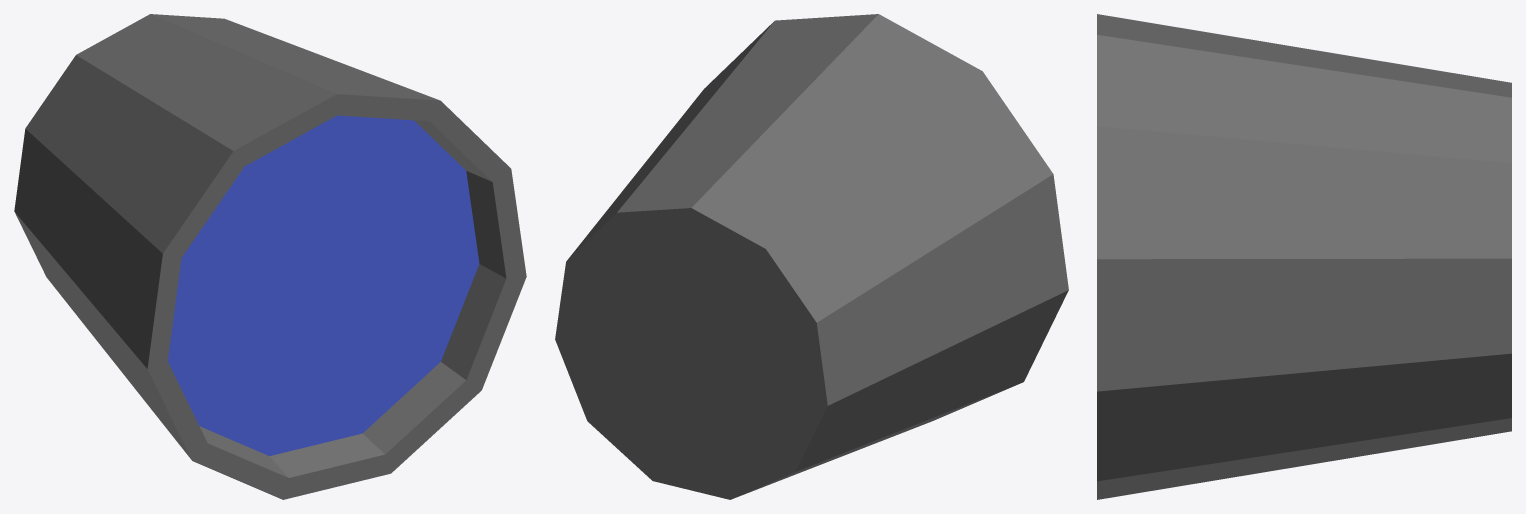
The model's file is Bucket.glb.
3 views of the same model, side by side, from view 1: azimuth 30°, elevation 25°; view 2: azimuth 150°, elevation 25°; view 3: azimuth 270°, elevation 25° (orthographic). The views are drawn at different scales.
Visible parts, largest first — view 1: shadeMetal.001, shadeBlue; view 2: shadeMetal.001; view 3: shadeMetal.001.
Part boxes in pixels (box(x1,y1,x2,y2)): shadeMetal.001: box(14, 14, 526, 499); shadeBlue: box(168, 115, 479, 455); shadeMetal.001: box(555, 14, 1068, 499); shadeMetal.001: box(1097, 14, 1511, 499).
Bounding box in the file's own units: 0.6209 × 0.6145 × 0.5299.
